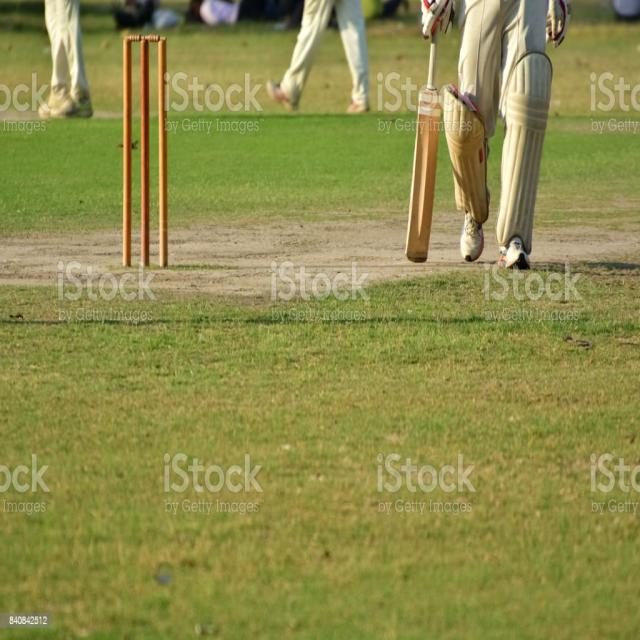stump: (122, 33, 170, 268)
